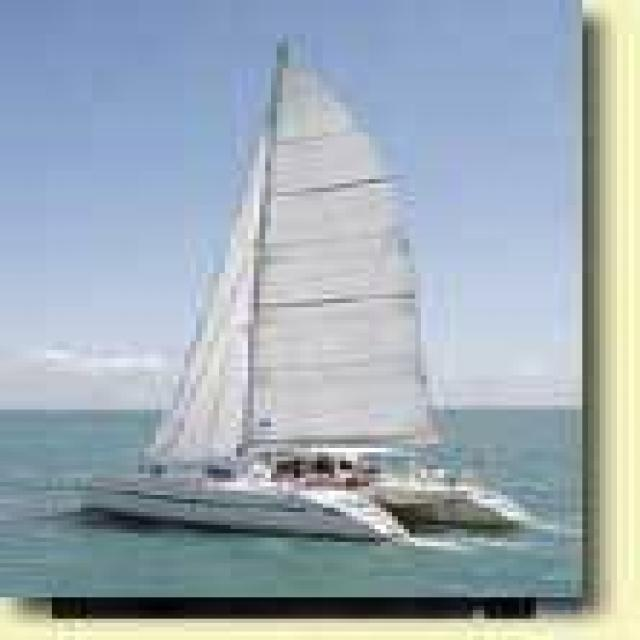Ship: (111, 40, 538, 540)
